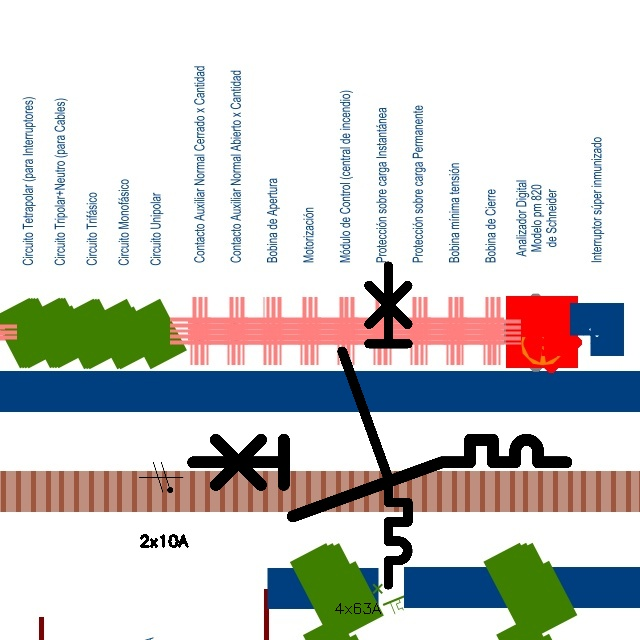interruptor_termomagnetico: (183, 430, 576, 526), (334, 258, 416, 593)
